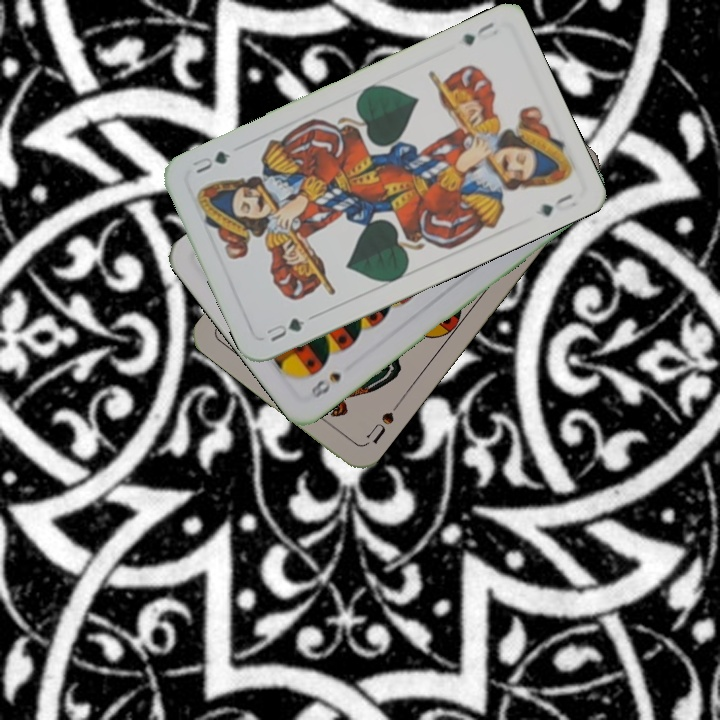GU: (262, 313, 308, 345), (457, 18, 497, 48)
S8: (306, 368, 344, 401)
SU: (361, 398, 403, 448)
